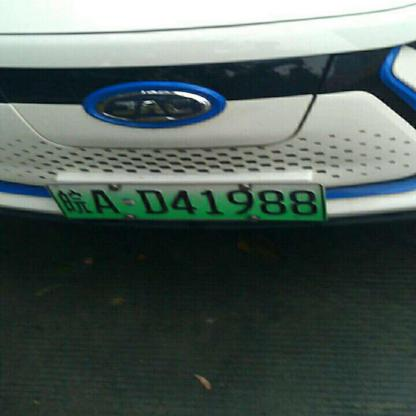lp: (45, 183, 67, 222)
